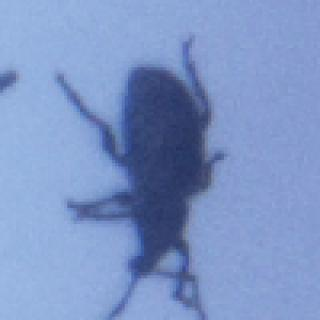bvw: (51, 33, 230, 320)
